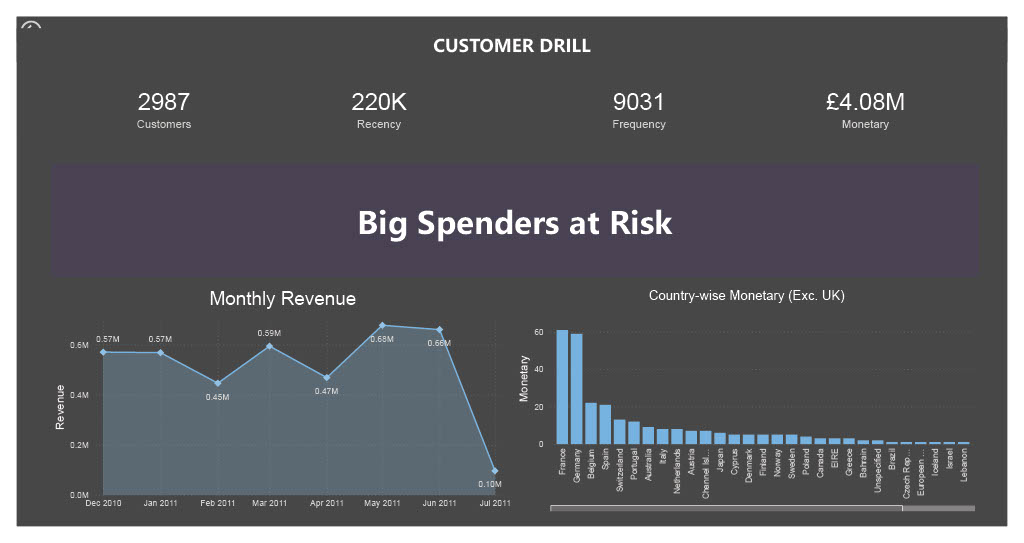

Layout of this report page (visuals, bound fields, positions):
{"tool":"powerbi","page":{"name":"Customer Drill","canvas":[1400,720],"ordinal":4},"visuals":[{"type":"actionButton","box":[0,0,100,40],"z":0},{"type":"card","fields":{"Values":["CountNonNull(edata_rfm_segmented.customerID)"]},"box":[80,64,256,128],"z":1000},{"type":"card","fields":{"Values":["Sum(edata_rfm_segmented.Recency)"]},"box":[384,64,256,128],"z":2000},{"type":"card","fields":{"Values":["Sum(edata_rfm_segmented.Frequency)"]},"box":[752,64,256,128],"z":3000},{"type":"card","fields":{"Values":["Sum(edata_rfm_segmented.Monetary)"]},"box":[1072,64,256,128],"z":4000},{"type":"card","fields":{"Values":["Min(edata_rfm_segmented.RFM_Segment)"]},"box":[48,208,1312,160],"z":5000},{"type":"lineChart","title":"Monthly Revenue","fields":{"Y":["edata_customer_type.Total Revenue"],"Category":["edata_customer_type.Year_Month.Variation.Date Hierarchy.Year","edata_customer_type.Year_Month.Variation.Date Hierarchy.Month"]},"box":[48,384,656,320],"z":6000},{"type":"textbox","box":[48,16,1312,48],"z":7000},{"type":"clusteredColumnChart","title":"Country-wise Monetary (Exc. UK)","fields":{"Y":["CountNonNull(edata_rfm_segmented.Monetary)"],"Category":["edata_customer_type.Country"]},"box":[704,384,656,320],"z":8000}]}

Visuals, with their boxes on the page's 1400x720 design canvas (x1, y1, x2, y2). These are canvas units, not pixel positions in the 1024x543 screenshot, which may show the page scaled, cropped or inside an application window:
actionButton: BBox(0, 0, 100, 40)
card - CountNonNull(edata_rfm_segmented.customerID): BBox(80, 64, 336, 192)
card - Sum(edata_rfm_segmented.Recency): BBox(384, 64, 640, 192)
card - Sum(edata_rfm_segmented.Frequency): BBox(752, 64, 1008, 192)
card - Sum(edata_rfm_segmented.Monetary): BBox(1072, 64, 1328, 192)
card - Min(edata_rfm_segmented.RFM_Segment): BBox(48, 208, 1360, 368)
"Monthly Revenue" lineChart: BBox(48, 384, 704, 704)
textbox: BBox(48, 16, 1360, 64)
"Country-wise Monetary (Exc. UK)" clusteredColumnChart: BBox(704, 384, 1360, 704)
